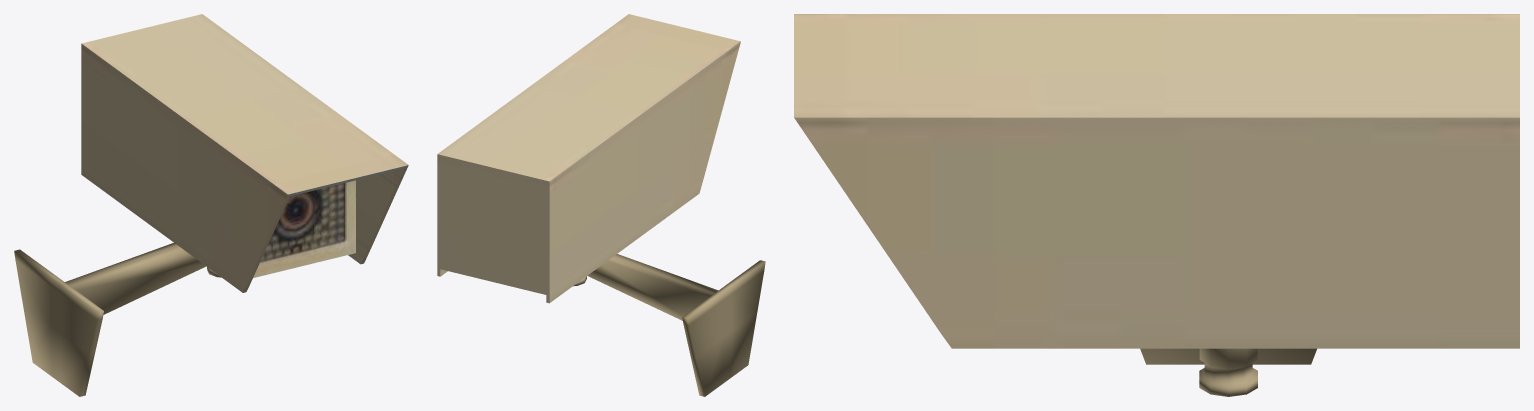
The model's file is security_camera.FBX.
3 views of the same model, side by side, from view 1: azimuth 30°, elevation 25°; view 2: azimuth 150°, elevation 25°; view 3: azimuth 270°, elevation 25° (orthographic). The views are drawn at different scales.
Parts seen in each view (by area): view 1: camera, camera_tripod; view 2: camera, camera_tripod; view 3: camera, camera_tripod.
Part boxes in pixels (x1,y1,x2,y2): camera: [81, 14, 408, 292]; camera_tripod: [14, 243, 221, 396]; camera: [437, 14, 740, 303]; camera_tripod: [573, 254, 765, 396]; camera: [794, 14, 1519, 348]; camera_tripod: [1140, 348, 1316, 396].
Size of the model in its own units: 26.48 by 27.53 by 41.31.
